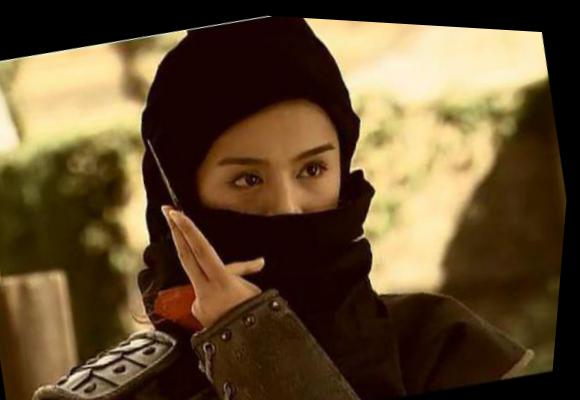WRONG: (190, 120, 385, 311)
